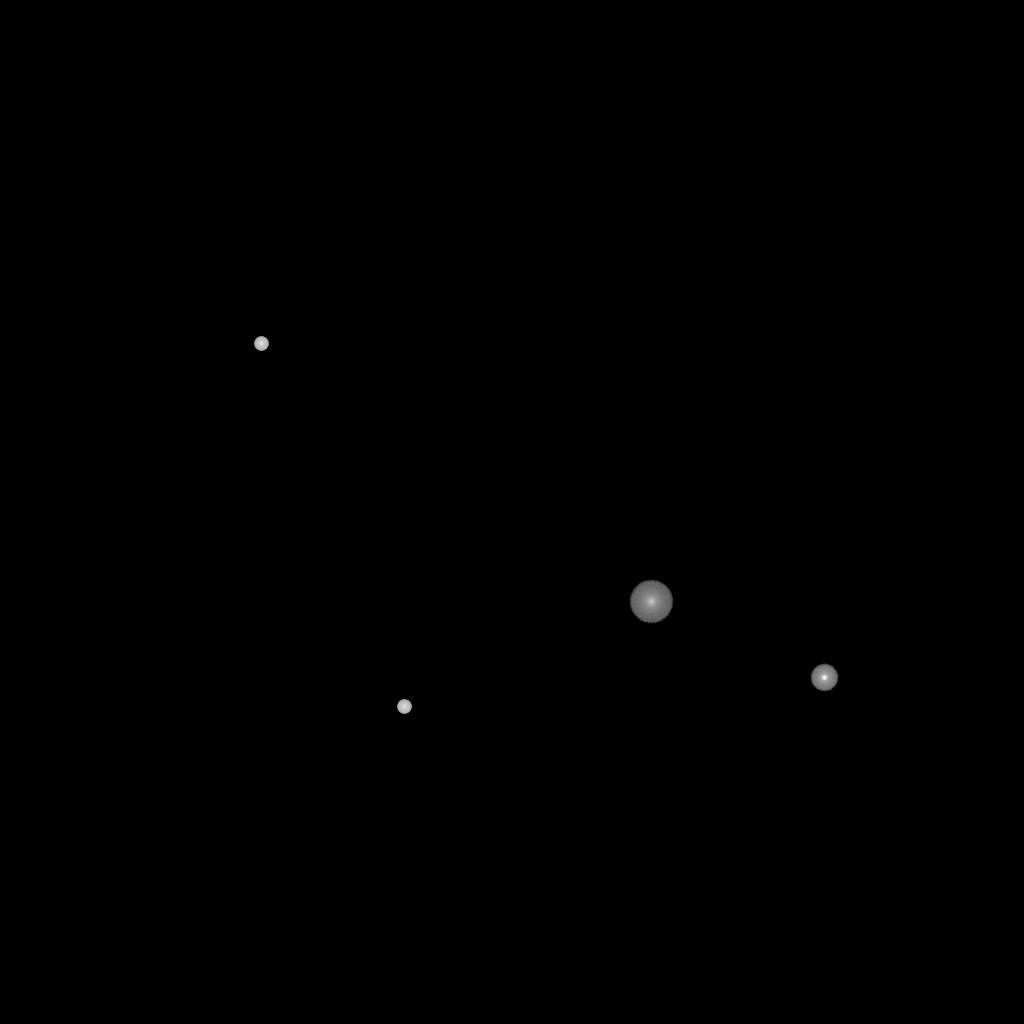depth:-10: (810, 664, 838, 692)
depth:-30: (254, 337, 268, 351), (397, 700, 411, 714)
depth:10: (629, 580, 673, 624)
